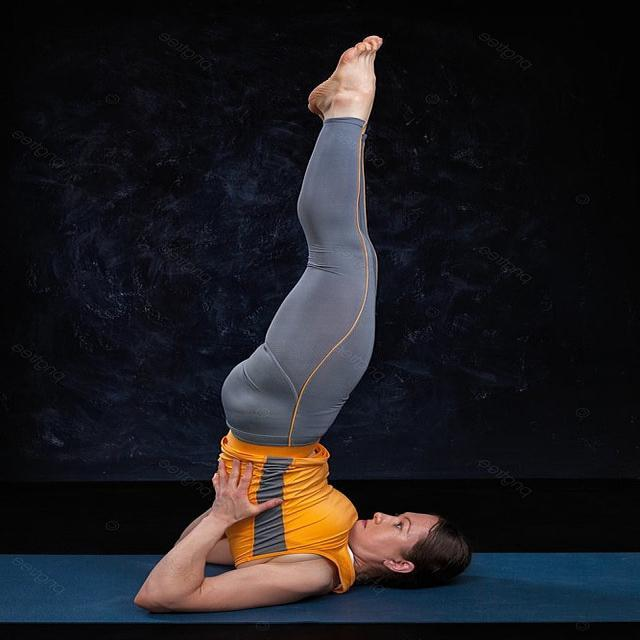yoga-pose shoulderstand: (127, 31, 484, 612)
